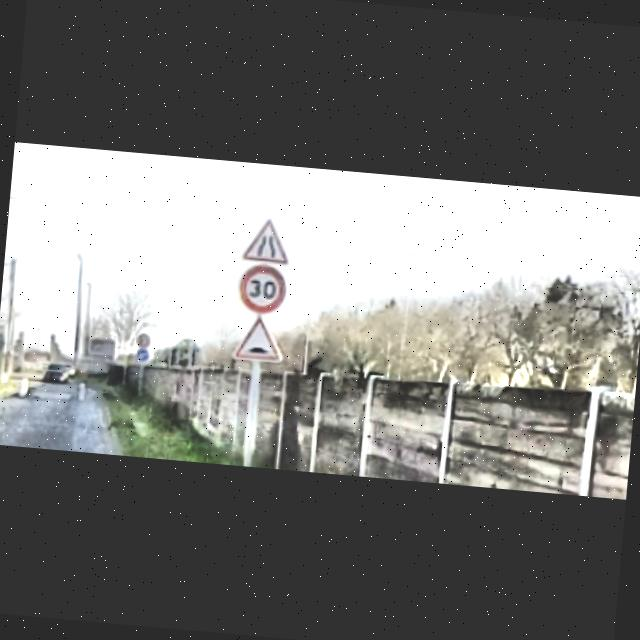speed_30: (236, 262, 287, 312)
